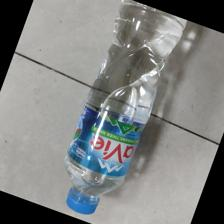Lavie: (62, 1, 189, 215)
